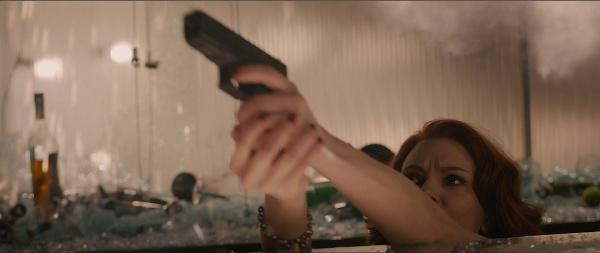Gun: (183, 10, 287, 102)
